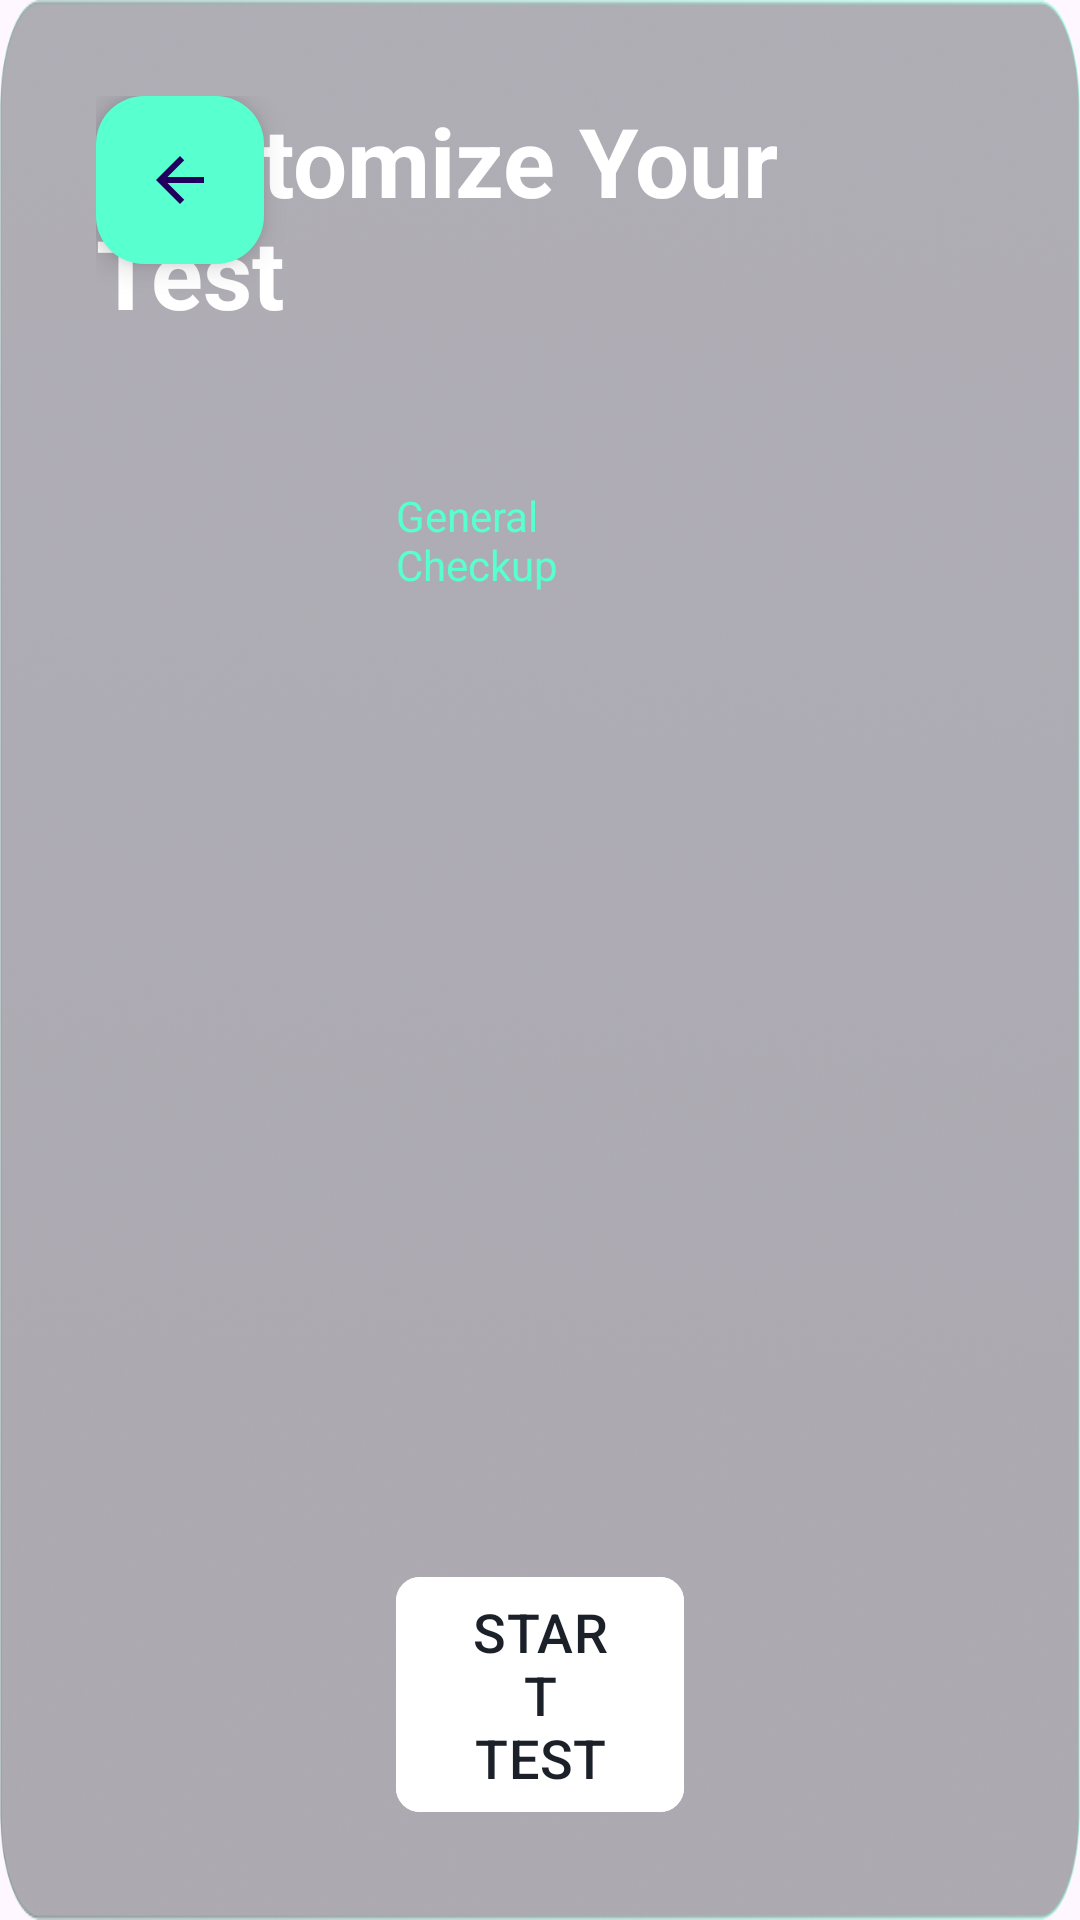

Icon click points for this 1080px x 1920px phone screenshot, format point (x, y):
Back Button: point (180, 180)
